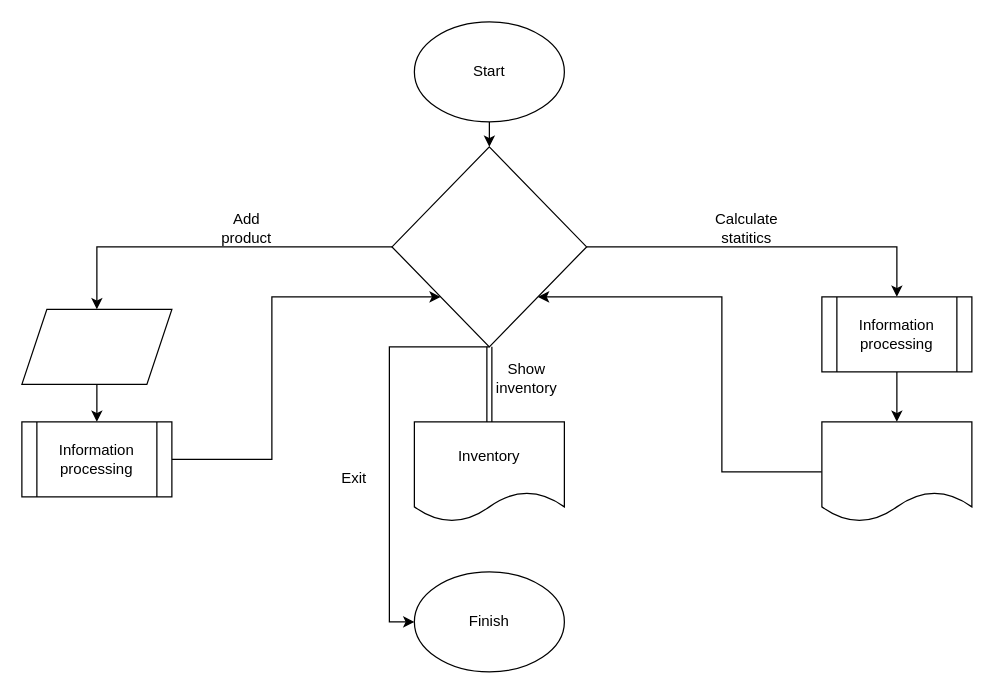
Image size: 994x694. Some labels were removed from this diagram. The shapes that lost their labels are listed below. From the top down, each one's centre as x and y in pixels, then its label:
At point (489, 246): "1. Add product 2. Show inventory 3. Calculate statitics 4. Exit".
At point (96, 346): "Product name Product price Quantity sold".
At point (896, 471): "- Total inventory value - Total number of registered products".
